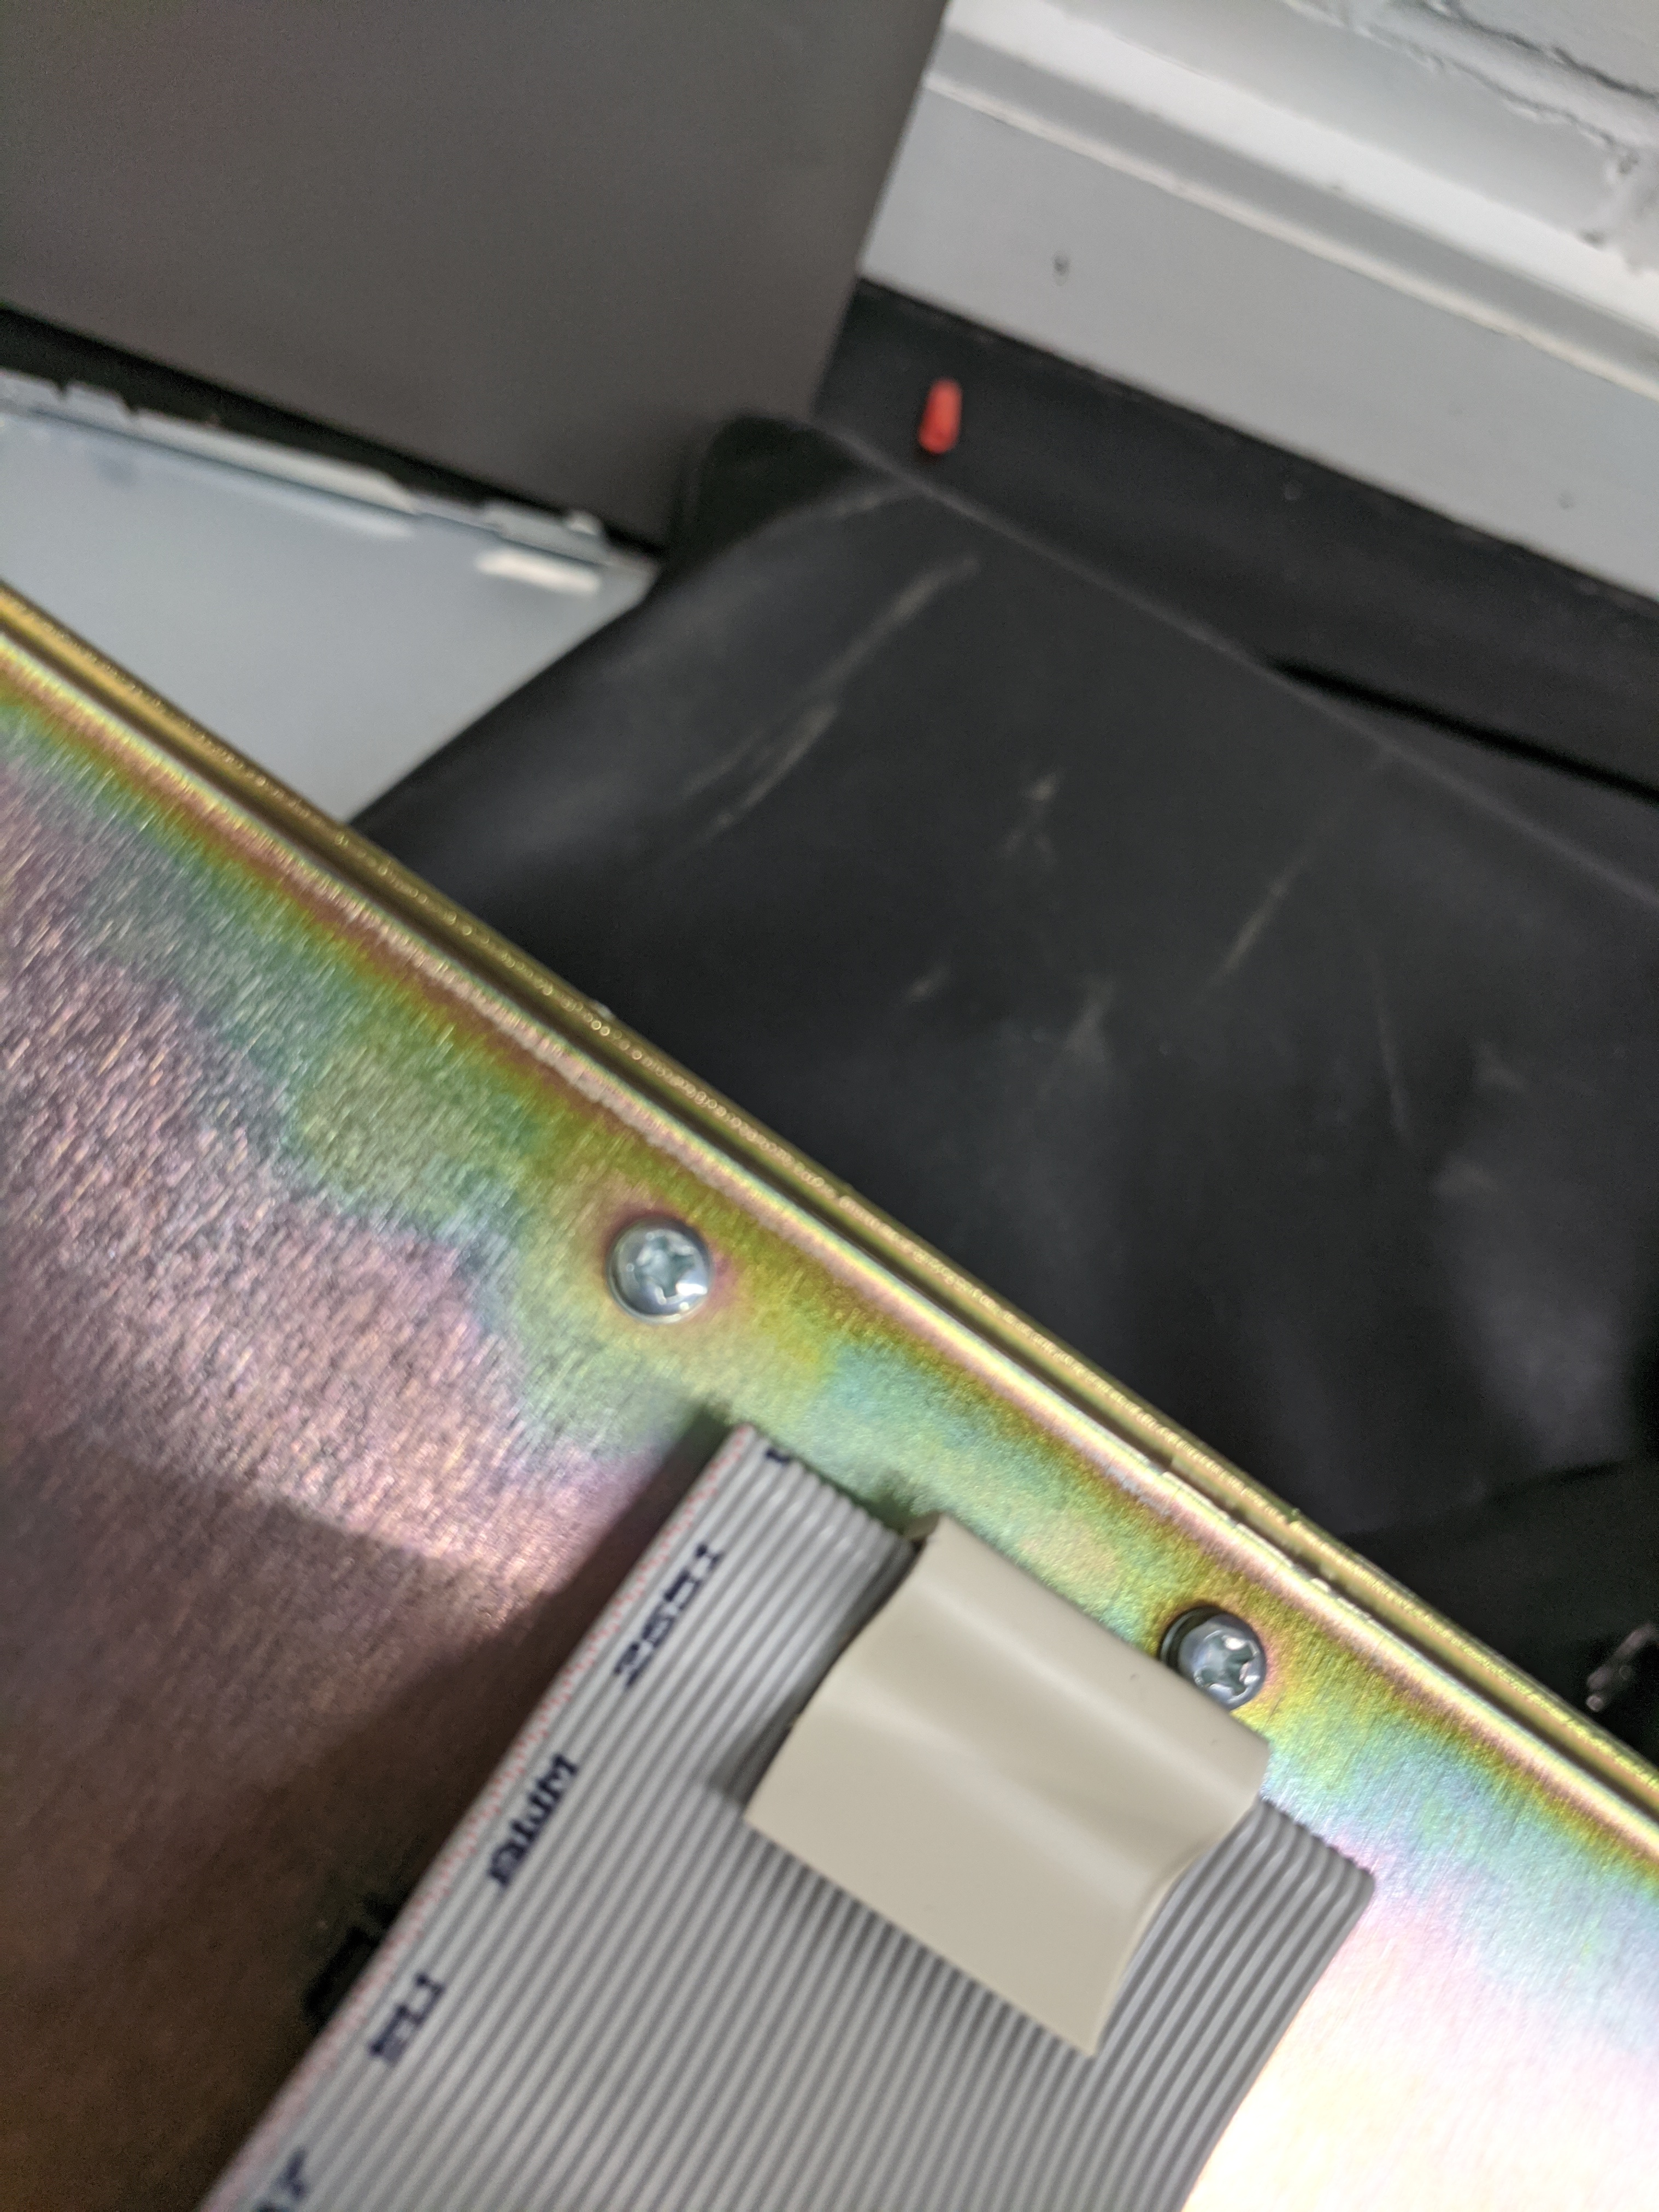cross_recessed_screw: (1164, 1597, 1279, 1717), (596, 1207, 714, 1322)
